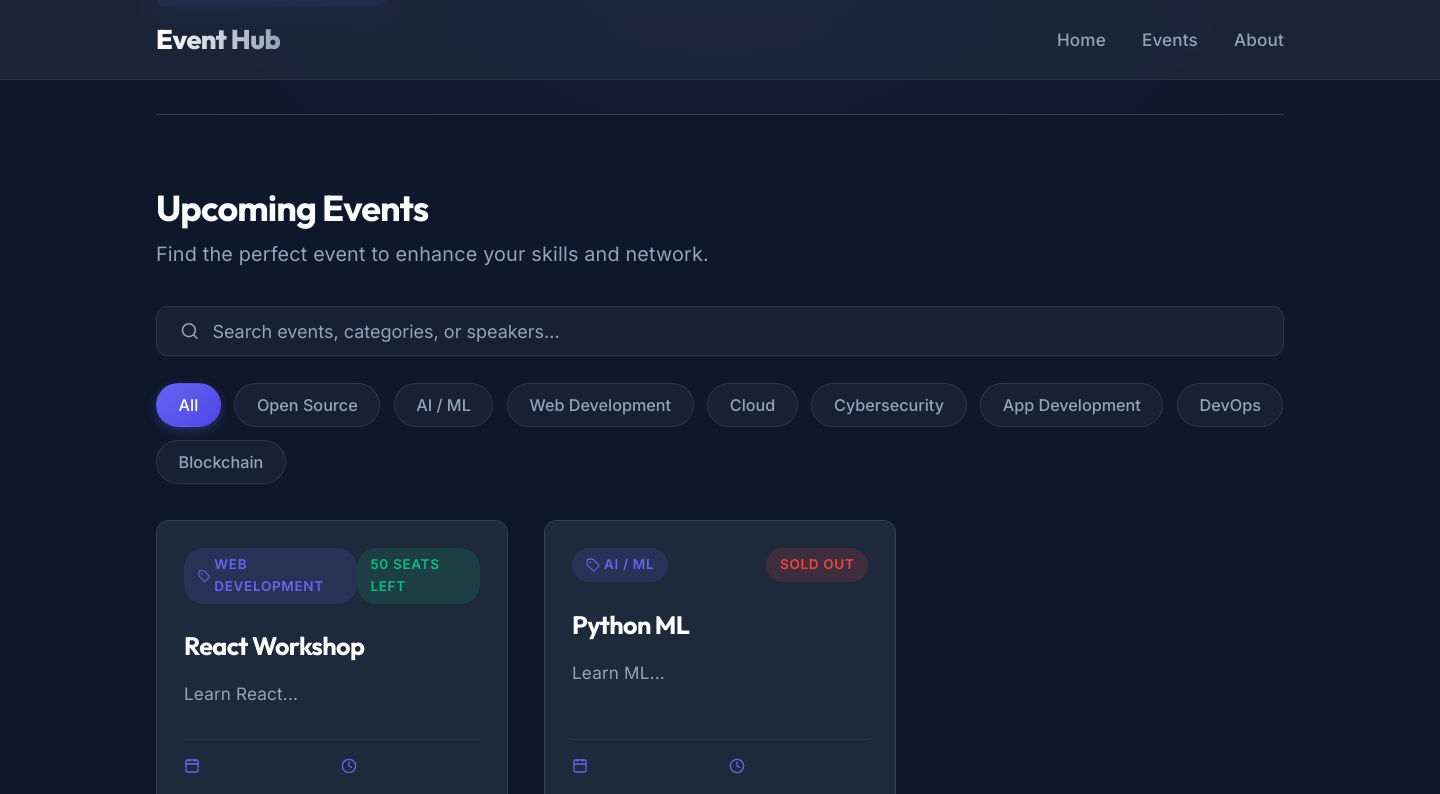
Scenario: GDG EventHub Frontend › Home Page › filters events by category
The image size is (1440, 794).
(page scrolled)
expect the heading "React Workshop" is shown: met, box x1=184 y1=630 x2=364 y2=662
Click the button "AI / ML". click: [444, 405]
box: x1=394 y1=383 x2=493 y2=427
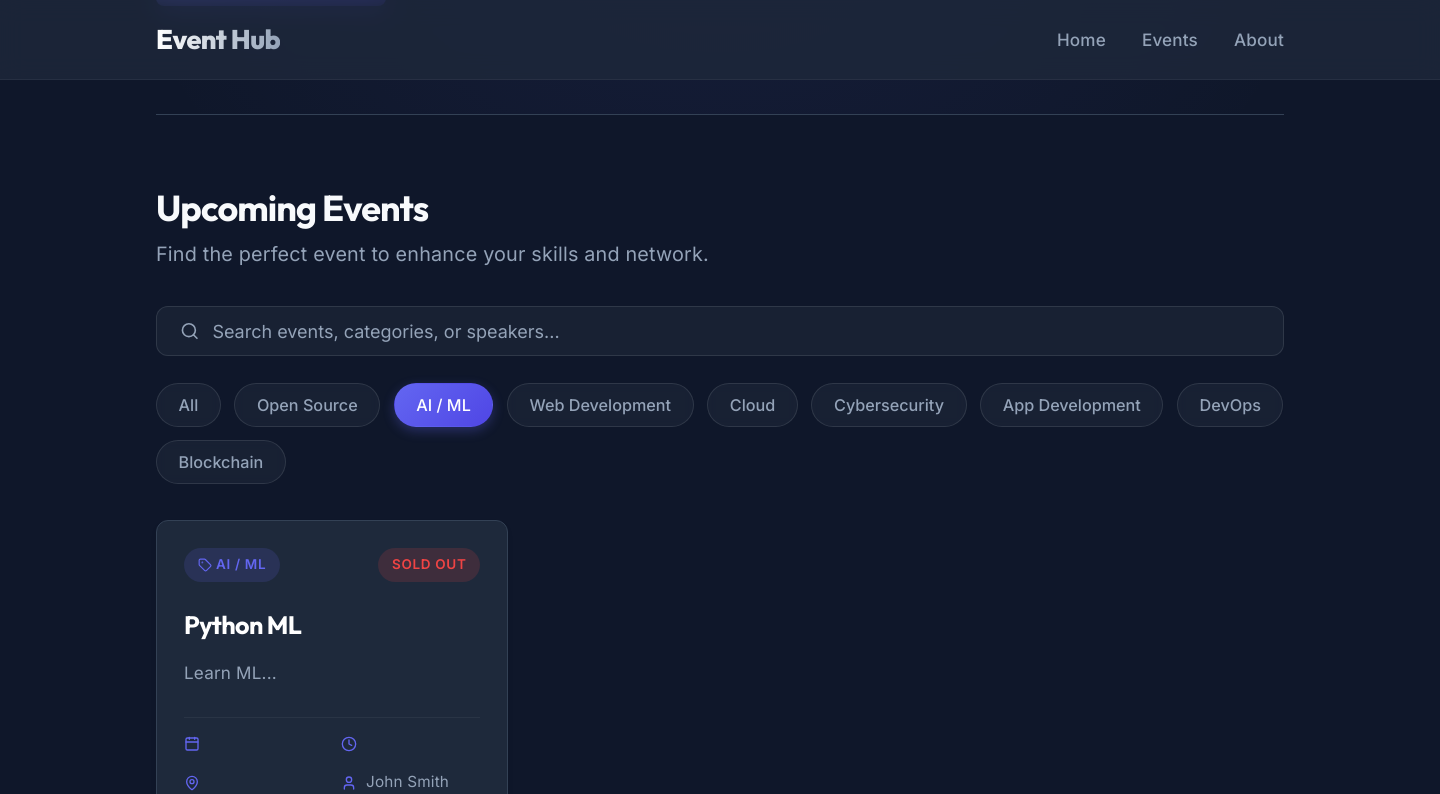
expect the heading "Python ML" is shown: met, box x1=184 y1=609 x2=301 y2=641
expect the heading "React Workshop" is gone: met
